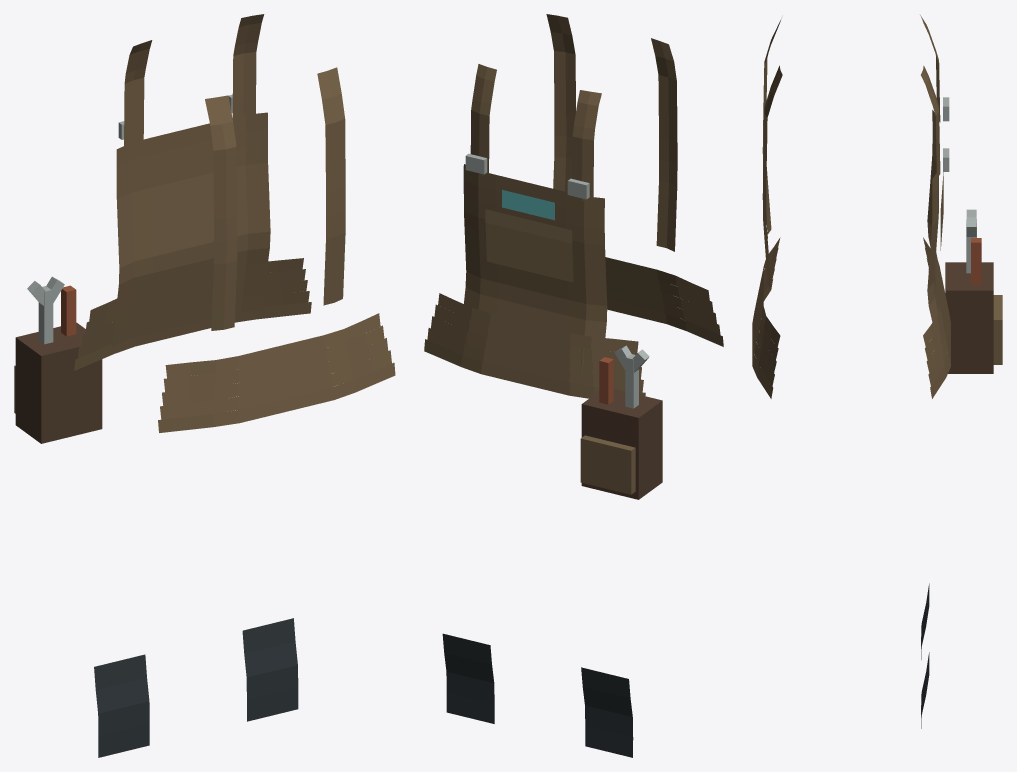
Rendered from lwf_maintenance_male_overlay_v1.glb.
The picture shows the model from 3 angles, left to right: view 1: azimuth 30°, elevation 25°; view 2: azimuth 150°, elevation 25°; view 3: azimuth 270°, elevation 25°; orthographic projection. The views are drawn at different scales.
Visible parts, largest first — view 1: LWF_Maintenance_Male_Overlay; view 2: LWF_Maintenance_Male_Overlay; view 3: LWF_Maintenance_Male_Overlay.
Part boxes in pixels (left/top/right/bottom): LWF_Maintenance_Male_Overlay: left=14, top=14, right=395, bottom=757; LWF_Maintenance_Male_Overlay: left=424, top=14, right=723, bottom=757; LWF_Maintenance_Male_Overlay: left=752, top=15, right=1002, bottom=728.
Size of the model in its own units: 0.3784 by 0.969 by 0.3291.
1 material, 1 textured.
